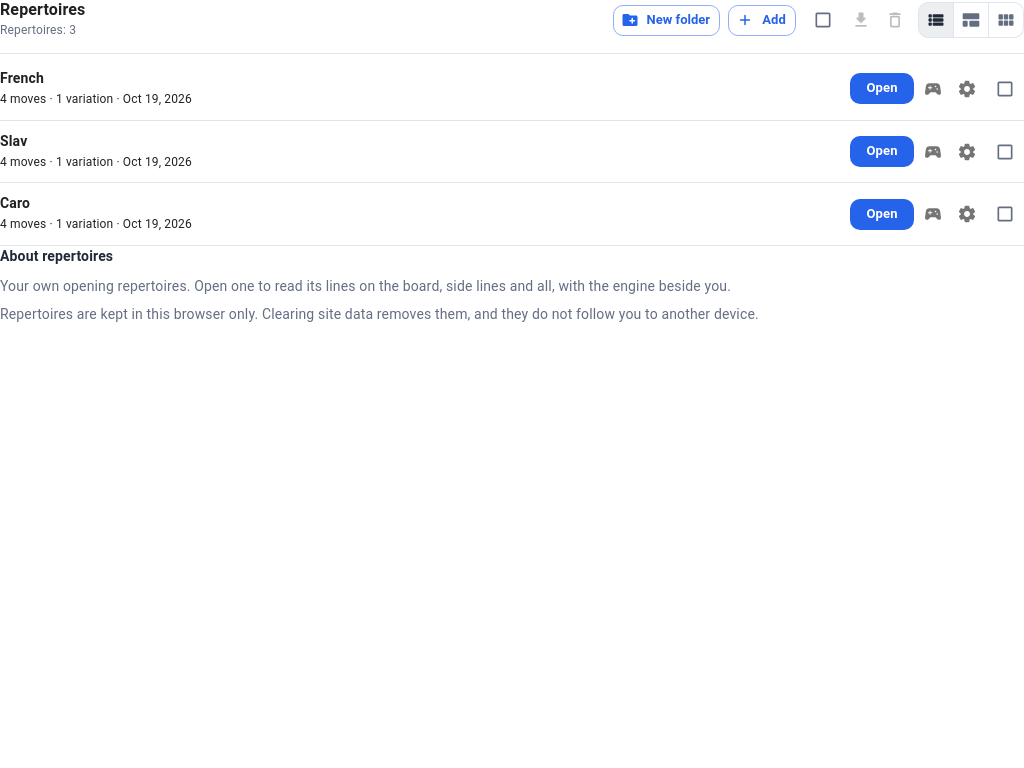
the Repertoires list › deletes the picked repertoires in bulk, after asking
Expected: the button with test id "repertoires-delete" is disabled, [880,5,910,35]
Click the checkbox named "Select Caro": (1005, 214) [995,204,1015,224]
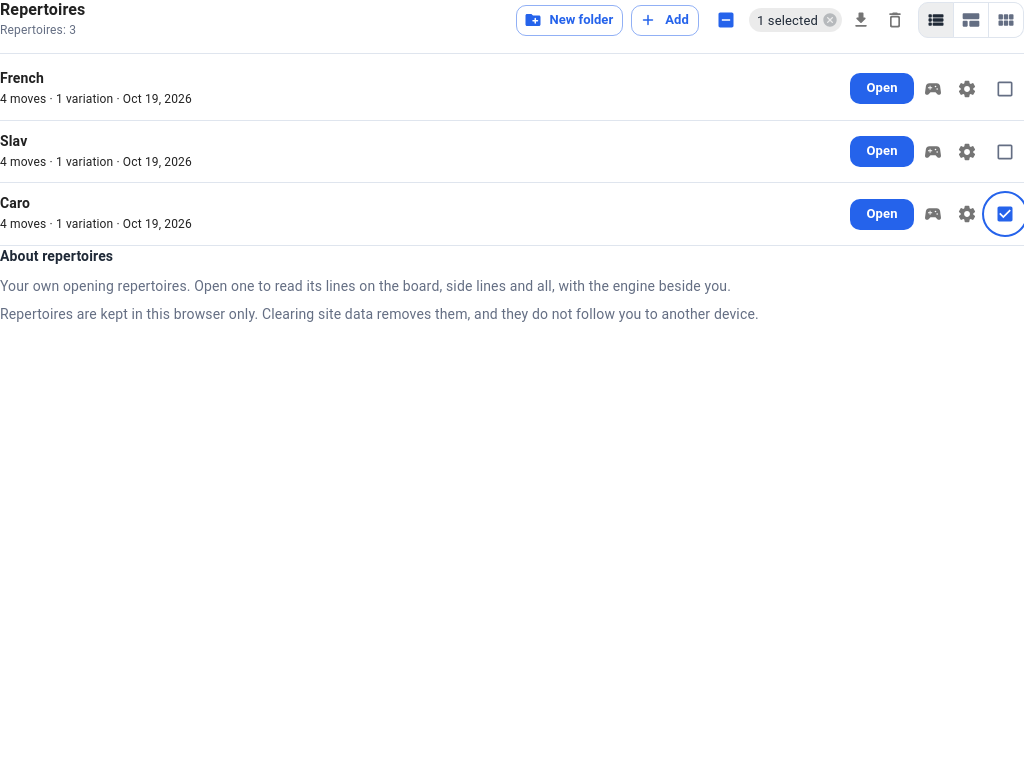
Click the checkbox named "Select French": (1005, 89) [995,79,1015,99]
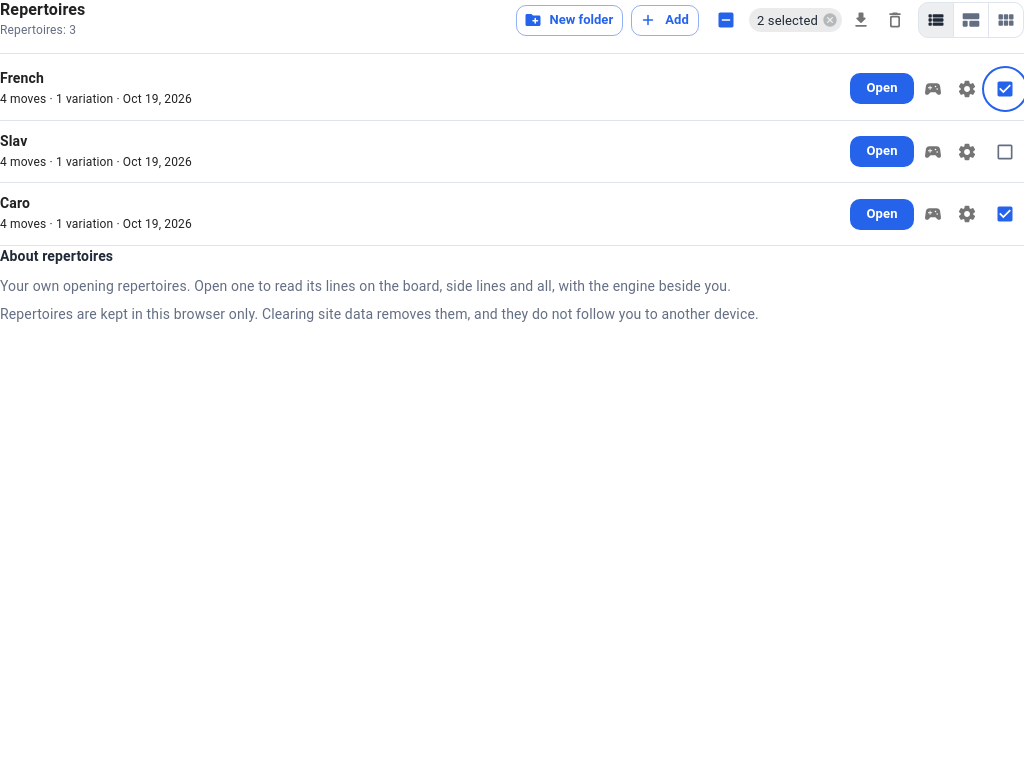
Click the button with test id "repertoires-delete": (895, 20) [880,5,910,35]
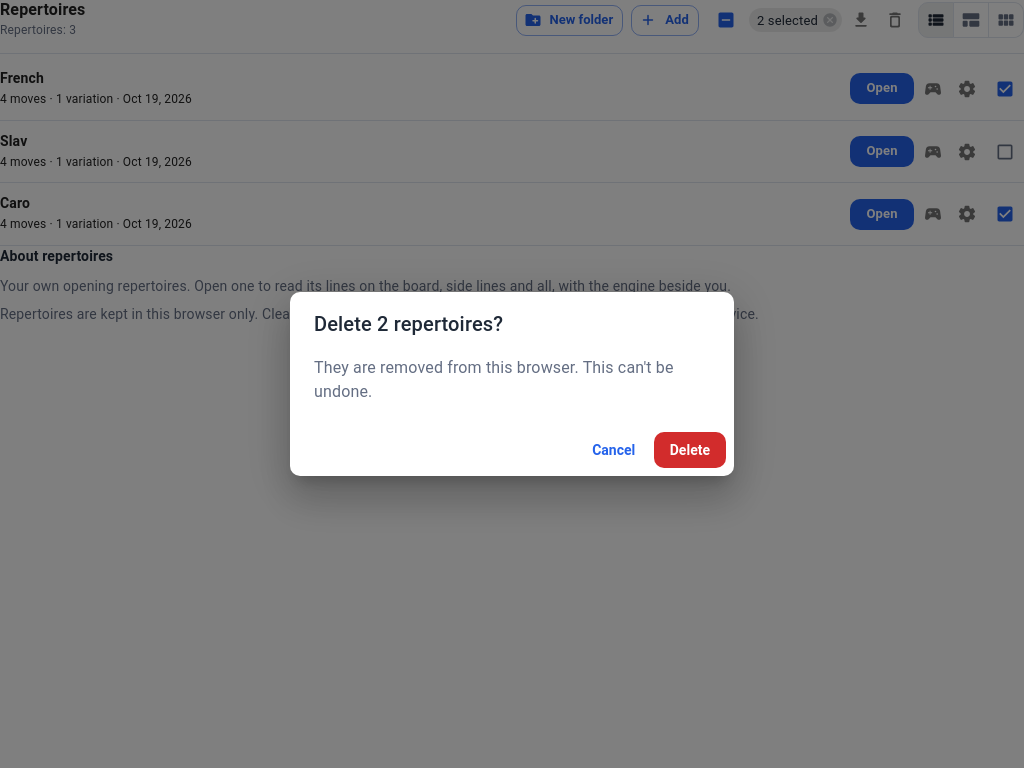
Now the heading with test id "repertoires-delete-title" reads "Delete 2 repertoires?", box [314,312,503,336]
Click the button with test id "repertoires-delete-confirm": (690, 450) [654,432,726,468]
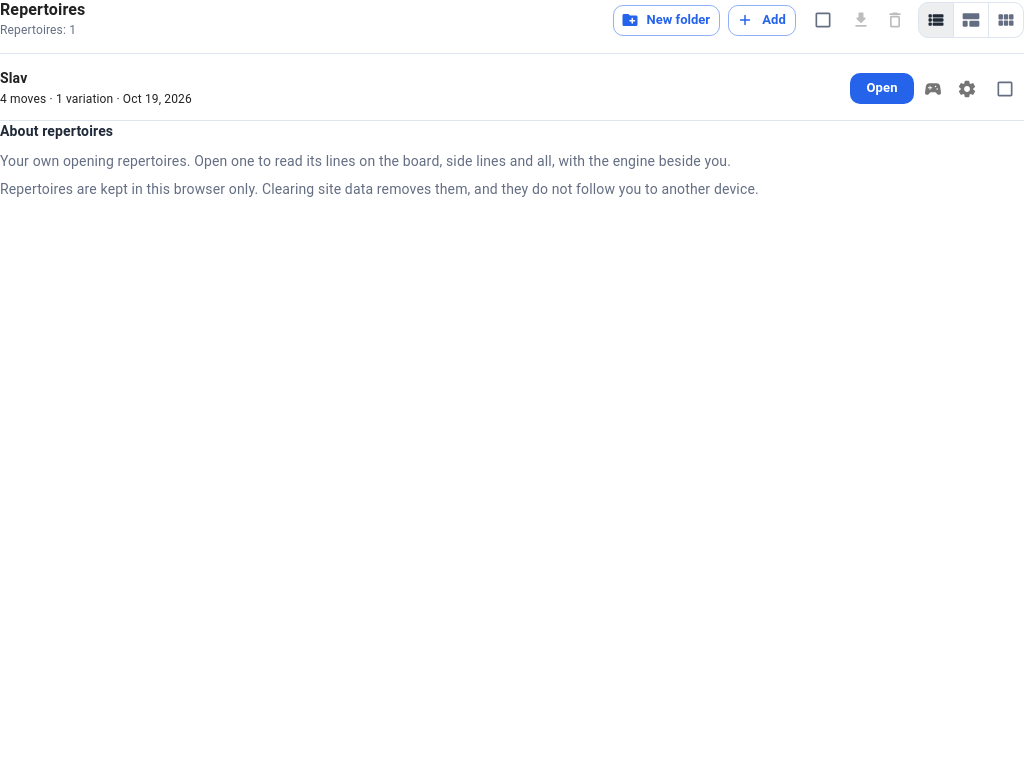
Now the button with test id "repertoires-selected-count" is gone
Now the button with test id "repertoires-delete" is disabled, box [880,5,910,35]
